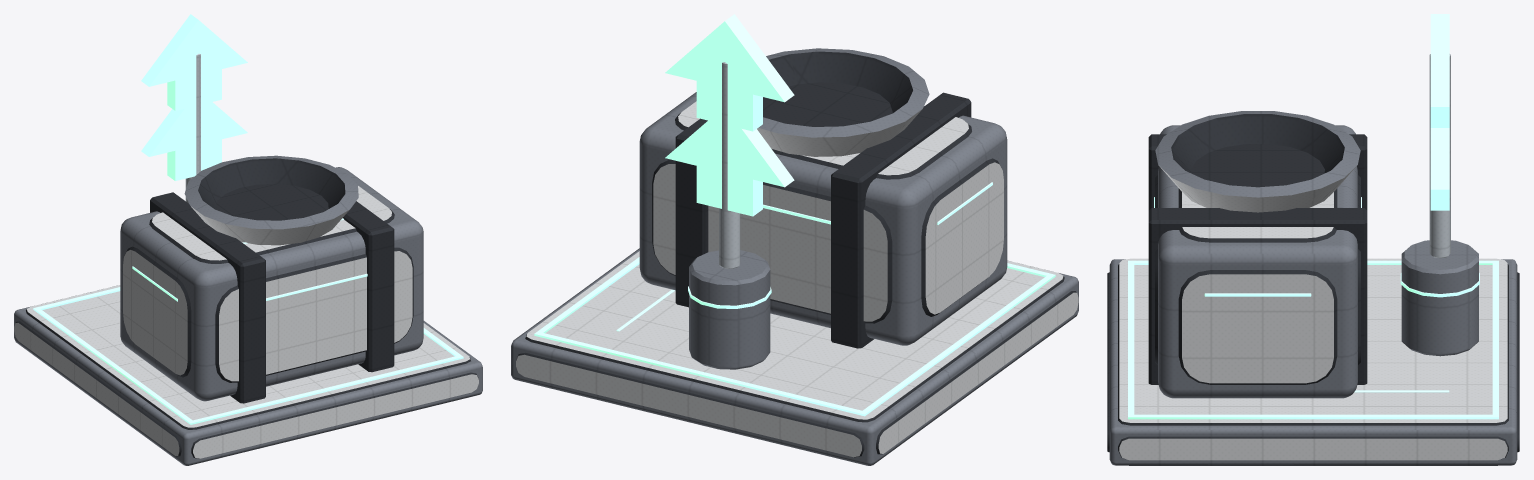
The model's file is R4X_CargoUplink.glb.
The picture shows the model from 3 angles, left to right: view 1: azimuth 30°, elevation 25°; view 2: azimuth 150°, elevation 25°; view 3: azimuth 270°, elevation 25°; orthographic projection. The views are drawn at different scales.
Visible parts, largest first — view 1: R4X_CargoUplink_Body; view 2: R4X_CargoUplink_Body; view 3: R4X_CargoUplink_Body.
Boxes of the visible parts, x1,y1,x2,y2 form: R4X_CargoUplink_Body: (14,14,482,465); R4X_CargoUplink_Body: (511,14,1078,465); R4X_CargoUplink_Body: (1107,14,1519,465).
Bounding box in the file's own units: 0.52 × 0.515 × 0.52.
5 materials, 4 textured.
